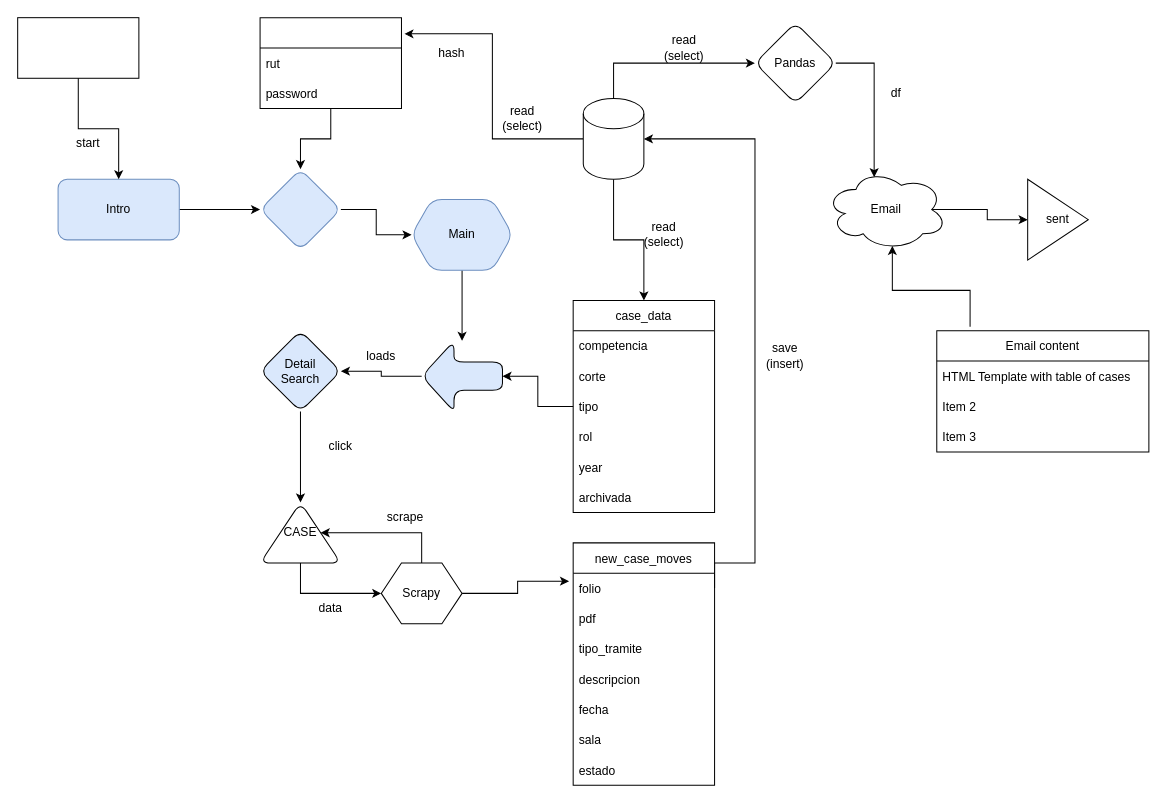
This 1167x803 diagram has some shape labels left out. The box of each missing label's shape, as (x1, y1, x2, y2) in pixels:
credentials: (259, 17, 401, 109)
db: (582, 97, 644, 179)
General Search: (421, 340, 502, 412)
Login: (259, 168, 341, 250)
Scrapy Casetracker Bot: (17, 17, 139, 78)
